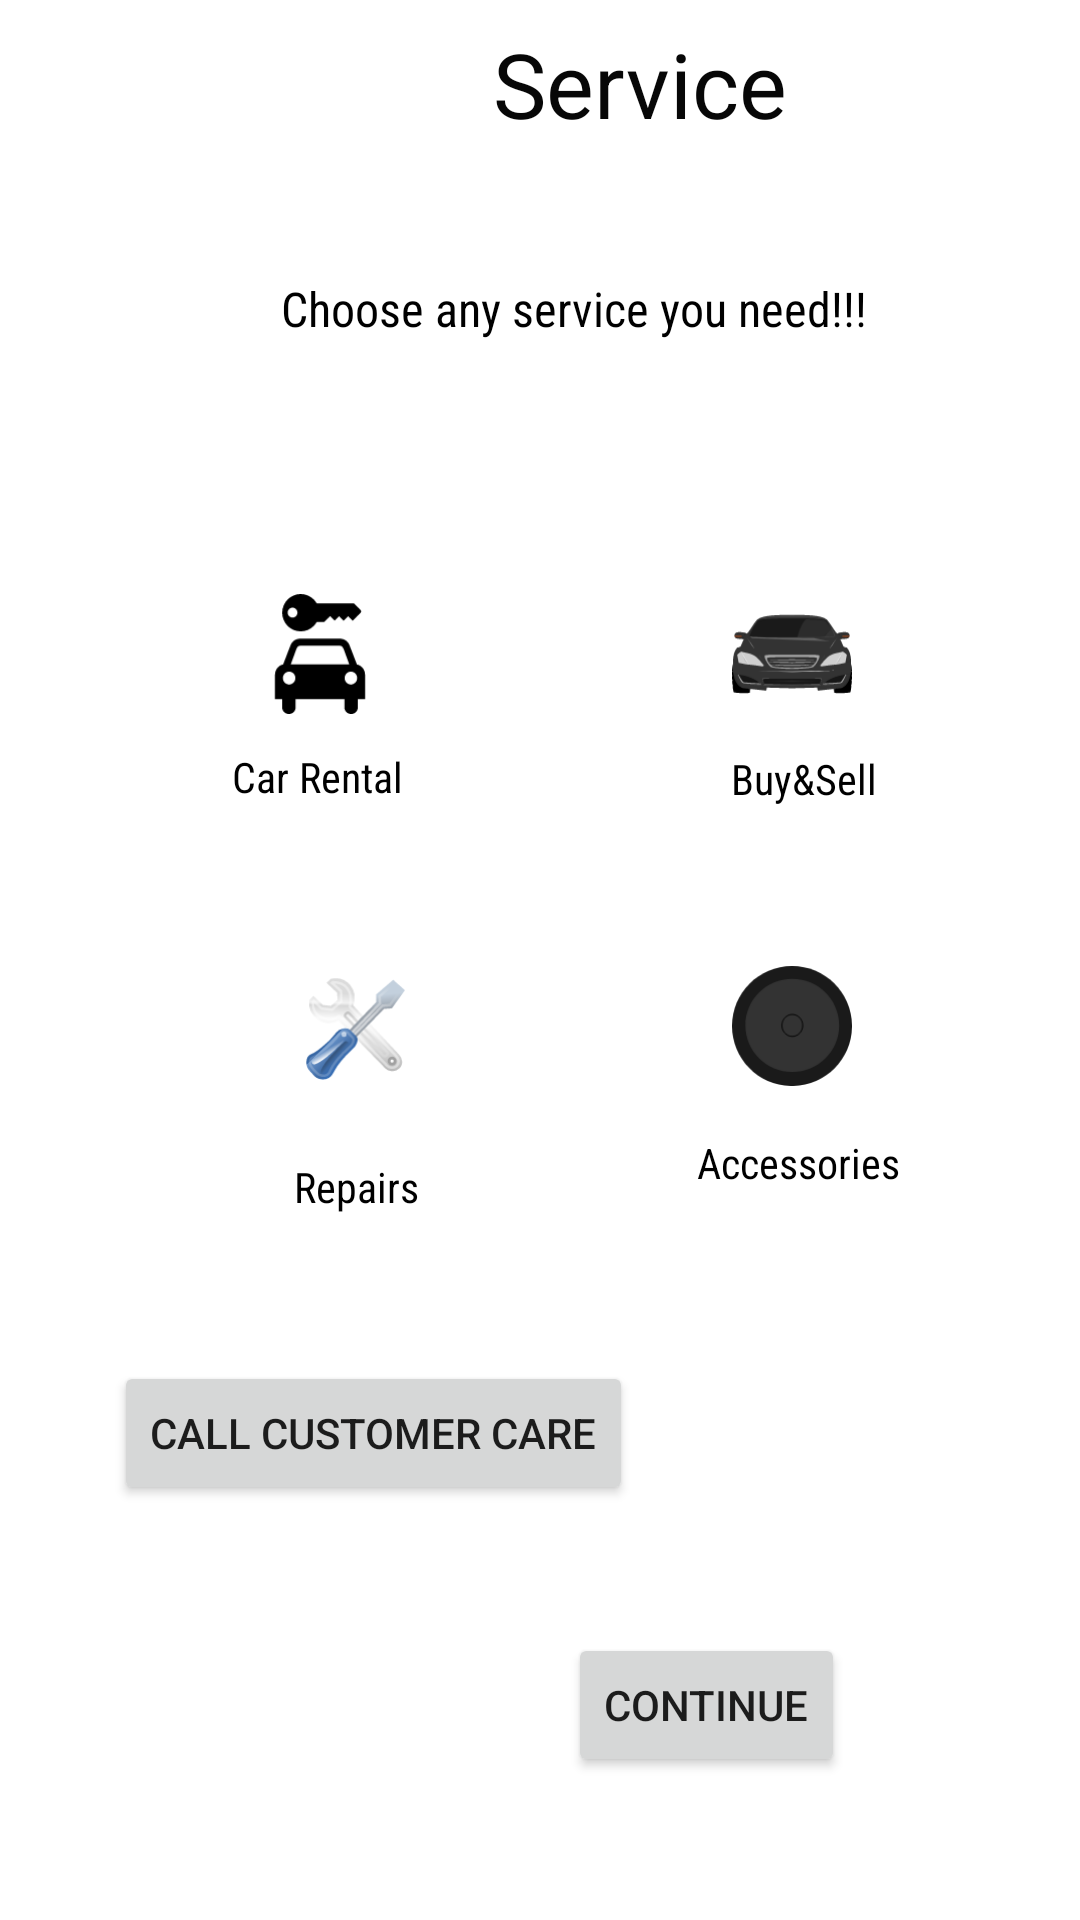

Icons on this 1080x1920 Android screen, each with its box as (x1, y1, x2, y2):
wheels: (732, 966, 852, 1086)
